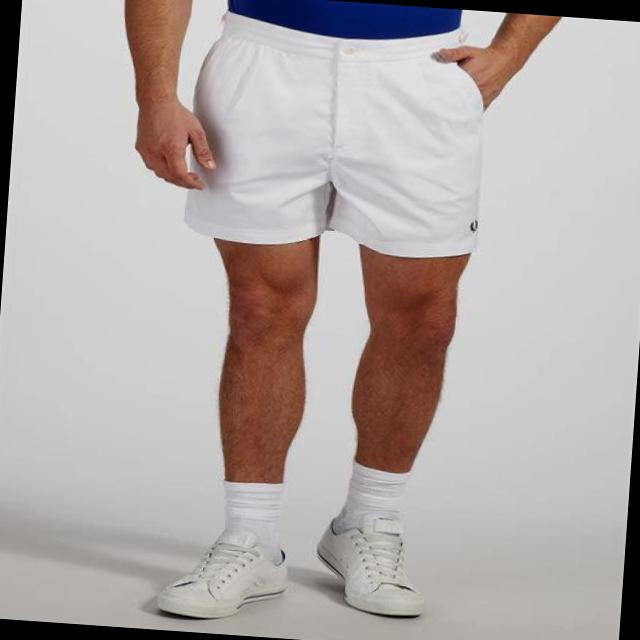short: (182, 6, 496, 260)
